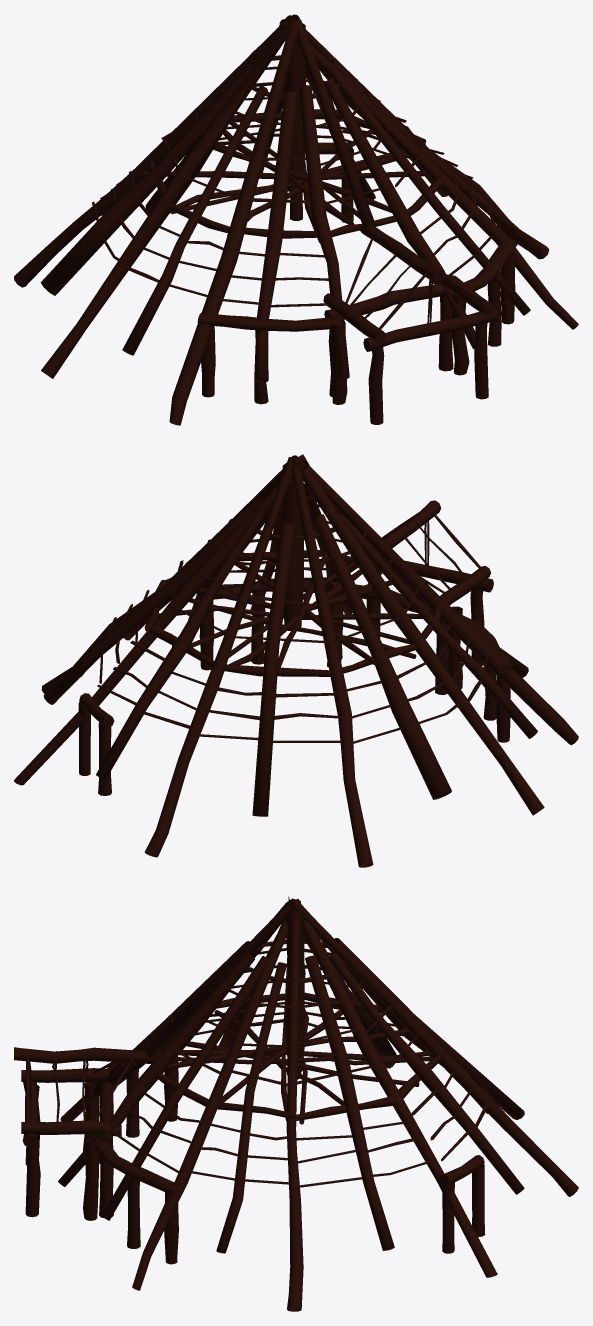
Rendered from WoodenStructure01.FBX.
3 renders of one model, top to bottom at view 1: azimuth 30°, elevation 25°; view 2: azimuth 150°, elevation 25°; view 3: azimuth 270°, elevation 25°, orthographic. The views are drawn at different scales.
Parts seen in each view (by area): view 1: Roundhouse_WoodenStructure; view 2: Roundhouse_WoodenStructure; view 3: Roundhouse_WoodenStructure.
Boxes of the visible parts, x1,y1,x2,y2 form: Roundhouse_WoodenStructure: (14, 14, 578, 425); Roundhouse_WoodenStructure: (14, 454, 578, 867); Roundhouse_WoodenStructure: (14, 896, 578, 1311).
Size of the model in its own units: 24.74 by 14.24 by 24.53.
